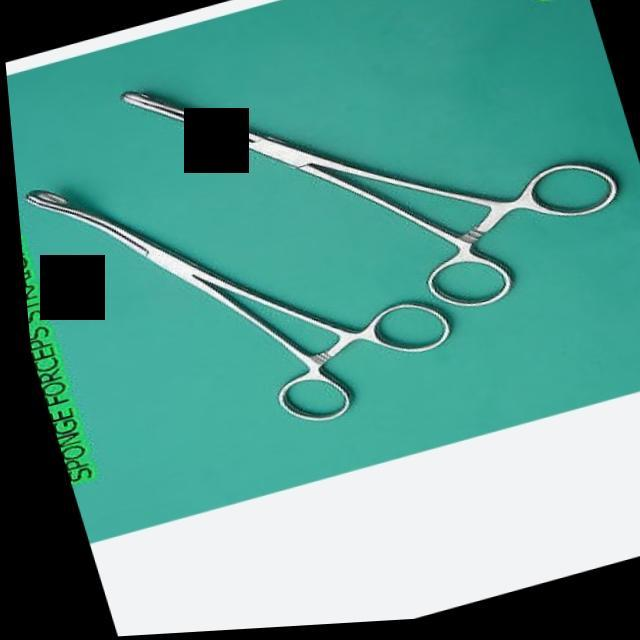Sponge Holding Forceps: (101, 0, 639, 385), (8, 94, 466, 489)
